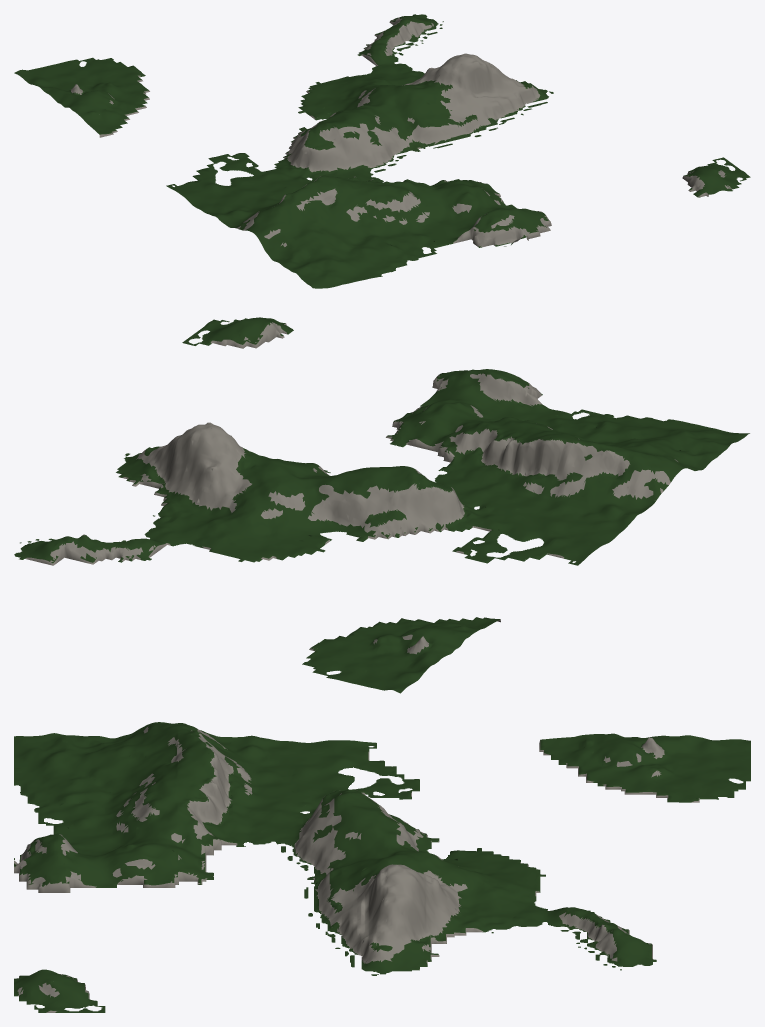
The model's file is pao-de-acucar.glb.
3 views of the same model, one above another, from view 1: azimuth 30°, elevation 25°; view 2: azimuth 150°, elevation 25°; view 3: azimuth 270°, elevation 25° (orthographic). The views are drawn at different scales.
Parts seen in each view (by area): view 1: dn_pao_de_acucar; view 2: dn_pao_de_acucar; view 3: dn_pao_de_acucar.
Part boxes in pixels (x1,y1,x2,y2): dn_pao_de_acucar: (14,14,750,288); dn_pao_de_acucar: (14,317,749,693); dn_pao_de_acucar: (14,722,750,1012).
Bounding box in the file's own units: 2887 × 305 × 3335.
